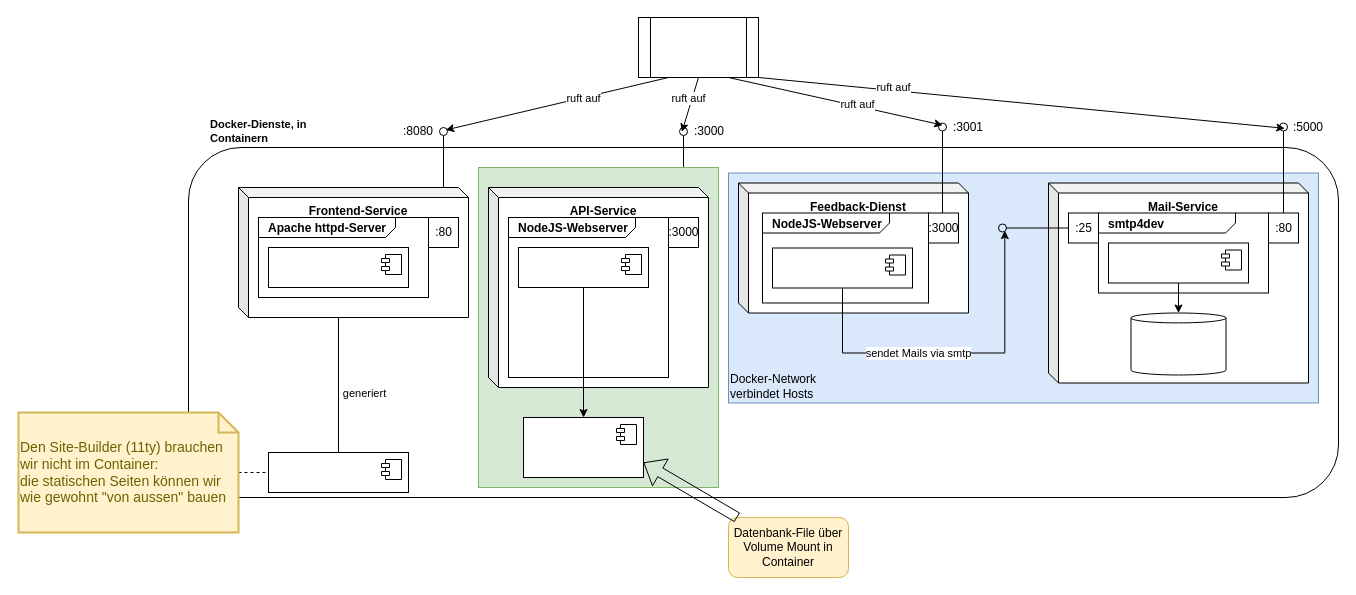
Some shapes in this 1356 by 595 pixel diagram are drawn without their labels. Each missing label, with the centre of its shape:
"Client Browser" belongs at pixel 698 47.
"Datenbank sqlite api.sqlite" belongs at pixel 583 447.
"Demo-/Text- API" belongs at pixel 583 267.
"Docker- Volume für Maildaten" belongs at pixel 1178 343.
"Form-Backend" belongs at pixel 842 267.
"Site-Builder 11ty" belongs at pixel 338 472.
"smtp-Server und Web-App" belongs at pixel 1178 262.
"statische Seiten" belongs at pixel 338 267.
